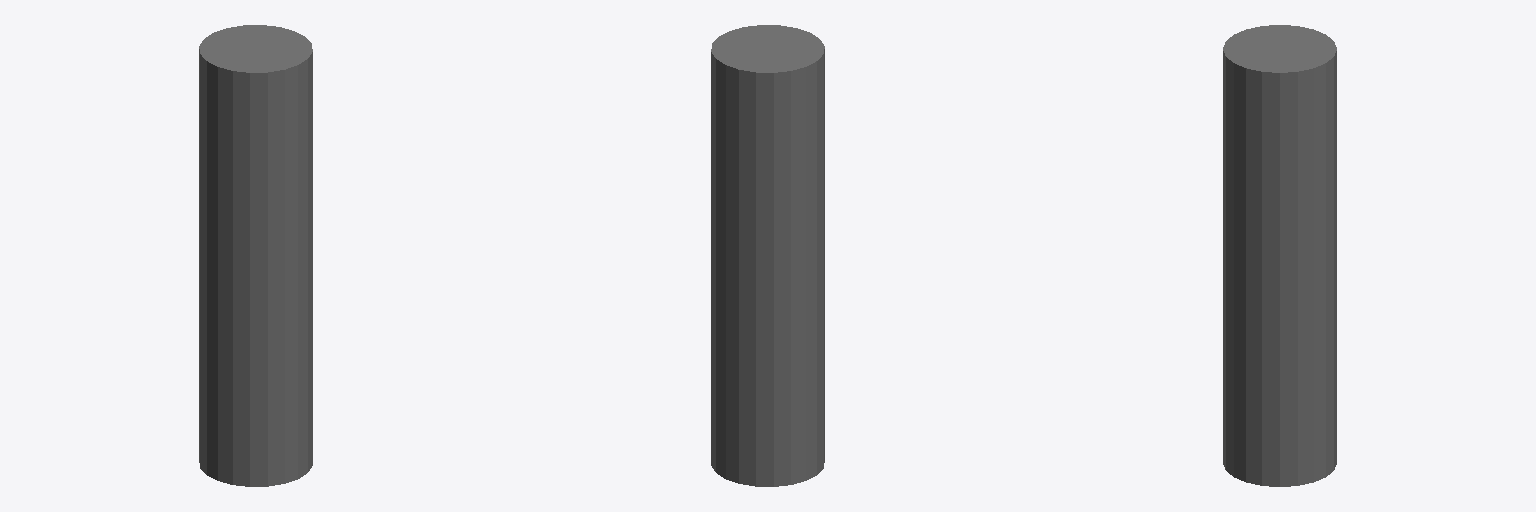
Rendered from _branch1.obj.
The picture shows the model from 3 angles: view 1: azimuth 30°, elevation 25°; view 2: azimuth 150°, elevation 25°; view 3: azimuth 270°, elevation 25°; orthographic projection.
Parts seen in each view (by area): view 1: pCylinder1; view 2: pCylinder1; view 3: pCylinder1.
Boxes of the visible parts, <box> form: pCylinder1: <box>199,25,312,486</box>; pCylinder1: <box>711,25,824,486</box>; pCylinder1: <box>1223,25,1336,486</box>.
Size of the model in its own units: 0.5 by 2 by 0.5.